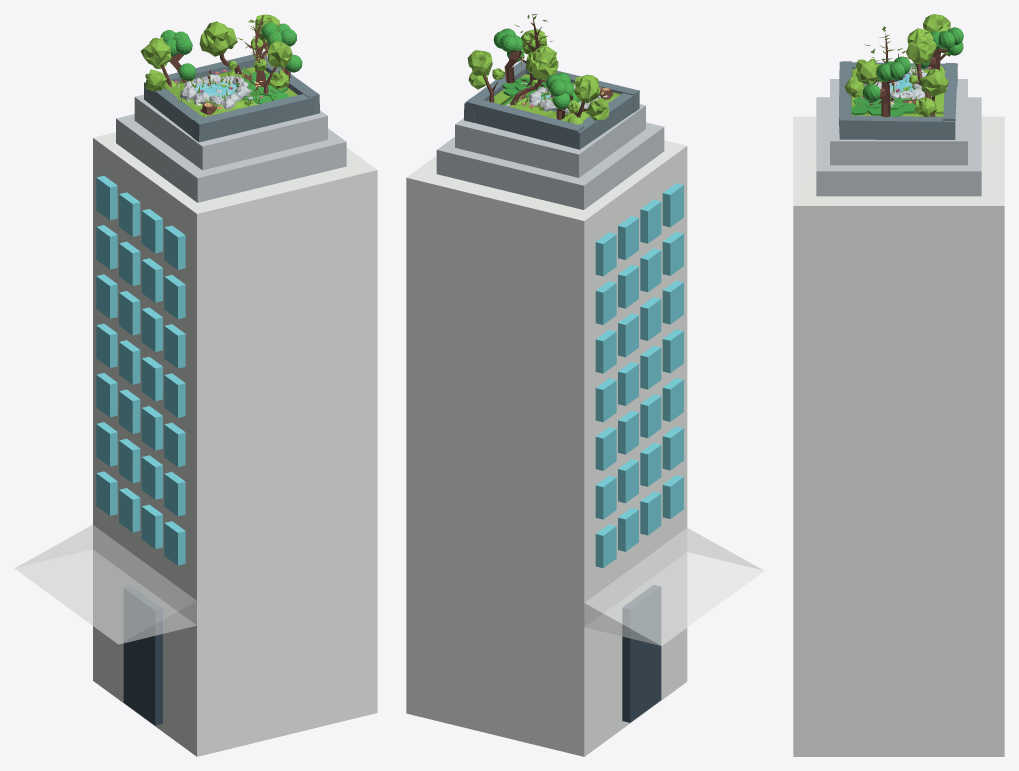
Rendered from pp-roofgarden.glb.
3 views of the same model, side by side, from view 1: azimuth 30°, elevation 25°; view 2: azimuth 150°, elevation 25°; view 3: azimuth 270°, elevation 25° (orthographic). The views are drawn at different scales.
Parts seen in each view (by area): view 1: Node; view 2: Node; view 3: Node.
Part boxes in pixels (left/top/right/bottom): Node: left=15, top=14, right=377, bottom=756; Node: left=406, top=14, right=763, bottom=756; Node: left=793, top=14, right=1004, bottom=756.
Size of the model in its own units: 0.33 by 0.8321 by 0.23.
2 materials, 2 textured.
